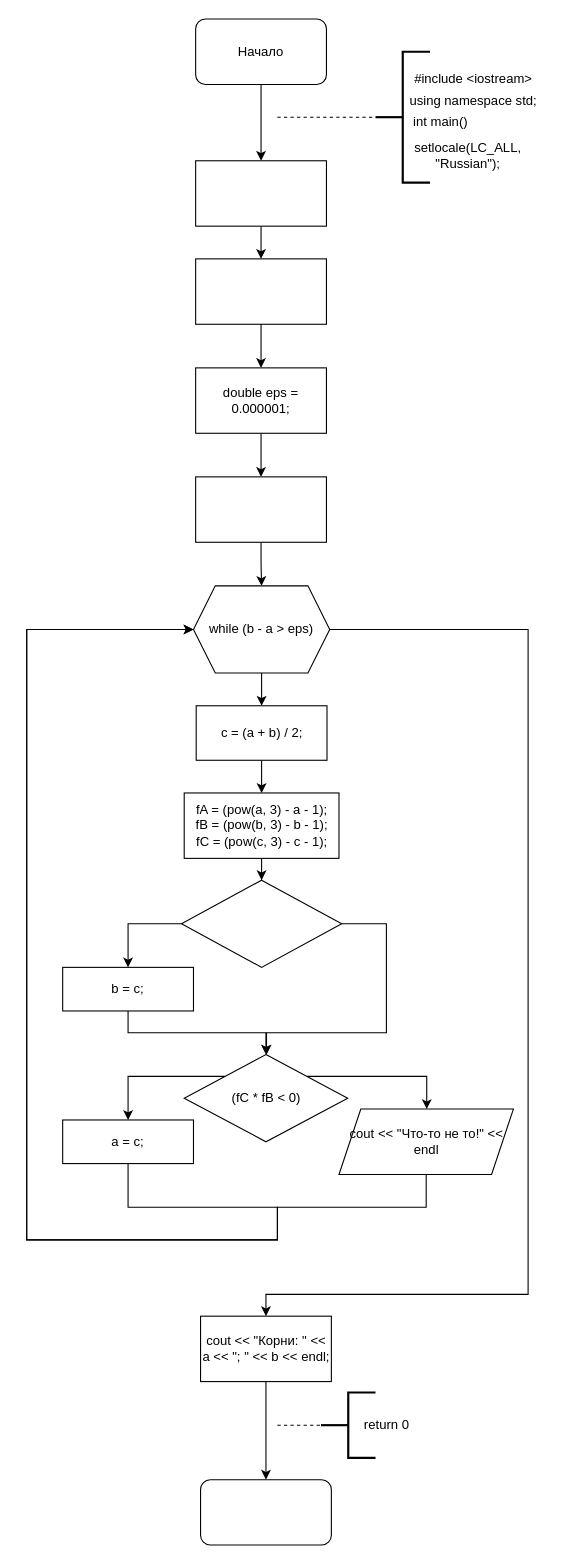
Some shapes in this 569 by 1564 pixel diagram are drawn without their labels. The shapes that lost their labels are listed below. From the top down, each one's box as (x1, y1, x2, y2) in pixels, then its label:
(195, 160, 326, 226): float a, b, c;
(195, 258, 326, 324): float fA, fB, fC;
(195, 476, 326, 542): a = 1; b = 2;
(180, 879, 342, 967): if (fA * fC < 0)
(199, 1479, 331, 1545): конец
